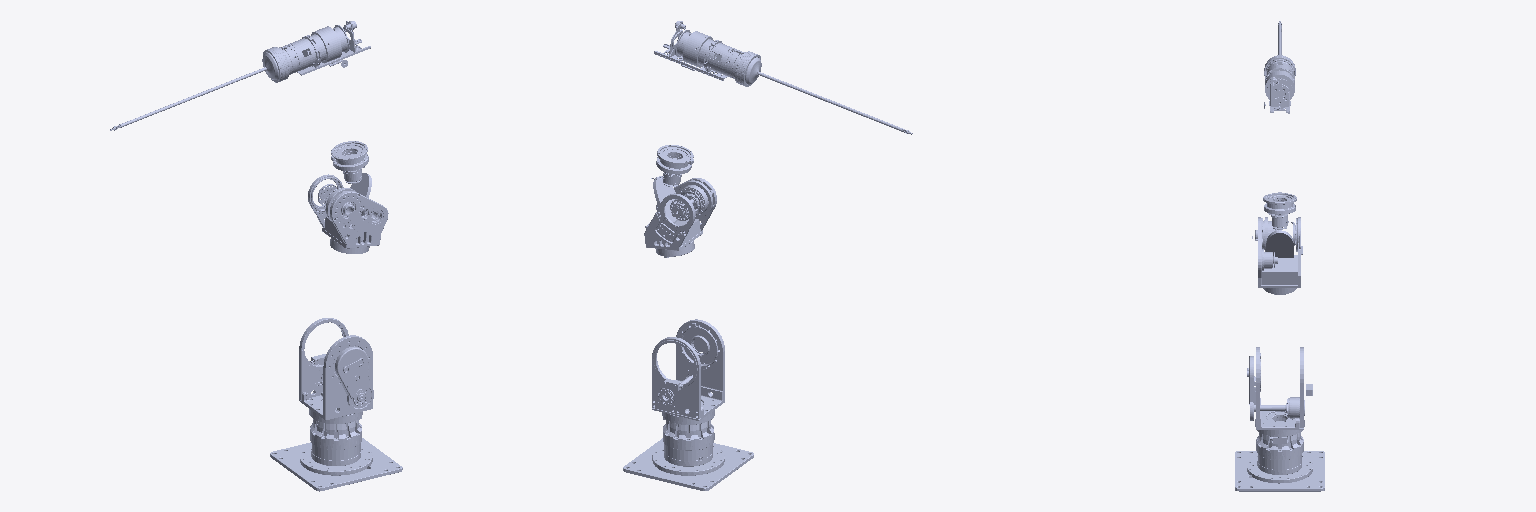
robot.urdf — 000PSM_10.SLDASM:
<?xml version="1.0" encoding="utf-8"?>
<!-- This URDF was automatically created by SolidWorks to URDF Exporter! Originally created by [author] ([email redacted]) 
     Commit Version: 1.6.0-4-g7f85cfe  Build Version: 1.6.7995.38578
     For more information, please see http://wiki.ros.org/sw_urdf_exporter -->
<robot
  name="000PSM_10.SLDASM">
  <link
    name="base_link">
    <inertial>
      <origin
        xyz="-0.000118184499271306 0.0400145358987086 -0.000195126740760821"
        rpy="0 0 0" />
      <mass
        value="0.941756221140476" />
      <inertia
        ixx="0.00261976418456864"
        ixy="-2.68177251028244E-06"
        ixz="7.50913281154645E-06"
        iyy="0.00411094097754537"
        iyz="-4.92959567770932E-06"
        izz="0.00262741889652876" />
    </inertial>
    <visual>
      <origin
        xyz="0 0 0"
        rpy="0 0 0" />
      <geometry>
        <mesh
          filename="package://000PSM_10.SLDASM/meshes/base_link.STL" />
      </geometry>
      <material
        name="">
        <color
          rgba="0.792156862745098 0.819607843137255 0.933333333333333 1" />
      </material>
    </visual>
    <collision>
      <origin
        xyz="0 0 0"
        rpy="0 0 0" />
      <geometry>
        <mesh
          filename="package://000PSM_10.SLDASM/meshes/base_link.STL" />
      </geometry>
    </collision>
  </link>
  <link
    name="Link1">
    <inertial>
      <origin
        xyz="0.00360442524391821 -0.0053005017370732 0.163964006214733"
        rpy="0 0 0" />
      <mass
        value="0.722552702234542" />
      <inertia
        ixx="0.00406038821436917"
        ixy="1.4220366901707E-06"
        ixz="-1.87723696682246E-05"
        iyy="0.00340644413763314"
        iyz="0.000302893967089514"
        izz="0.00243280961983921" />
    </inertial>
    <visual>
      <origin
        xyz="0 0 0"
        rpy="0 0 0" />
      <geometry>
        <mesh
          filename="package://000PSM_10.SLDASM/meshes/Link1.STL" />
      </geometry>
      <material
        name="">
        <color
          rgba="0.792156862745098 0.819607843137255 0.933333333333333 1" />
      </material>
    </visual>
    <collision>
      <origin
        xyz="0 0 0"
        rpy="0 0 0" />
      <geometry>
        <mesh
          filename="package://000PSM_10.SLDASM/meshes/Link1.STL" />
      </geometry>
    </collision>
  </link>
  <joint
    name="Joint1"
    type="revolute">
    <origin
      xyz="-0.00033121 0.00057367 0.0175"
      rpy="0 0 0" />
    <parent
      link="base_link" />
    <child
      link="Link1" />
    <axis
      xyz="0 0 -1" />
    <limit
      lower="0"
      upper="7"
      effort="100"
      velocity="100" />
  </joint>
  <link
    name="Link2">
    <inertial>
      <origin
        xyz="0.00362844830441954 0.0920795151899917 -0.0120135535967818"
        rpy="0 0 0" />
      <mass
        value="1.07316067537777" />
      <inertia
        ixx="0.00750311471264768"
        ixy="-0.000924886060997682"
        ixz="4.37371912655358E-06"
        iyy="0.00258481311337046"
        iyz="-0.000404072452028961"
        izz="0.00815014324652294" />
    </inertial>
    <visual>
      <origin
        xyz="0 0 0"
        rpy="0 0 0" />
      <geometry>
        <mesh
          filename="package://000PSM_10.SLDASM/meshes/Link2.STL" />
      </geometry>
      <material
        name="">
        <color
          rgba="0.792156862745098 0.819607843137255 0.933333333333333 1" />
      </material>
    </visual>
    <collision>
      <origin
        xyz="0 0 0"
        rpy="0 0 0" />
      <geometry>
        <mesh
          filename="package://000PSM_10.SLDASM/meshes/Link2.STL" />
      </geometry>
    </collision>
  </link>
  <joint
    name="Joint2"
    type="revolute">
    <origin
      xyz="0.00033121 -0.0085737 0.26235"
      rpy="1.5708 0 0" />
    <parent
      link="Link1" />
    <child
      link="Link2" />
    <axis
      xyz="0 0 -1" />
    <limit
      lower="0"
      upper="7"
      effort="100"
      velocity="100" />
  </joint>
  <link
    name="Link3">
    <inertial>
      <origin
        xyz="-0.00143469504532167 -0.00577195560730086 0.0323775671399398"
        rpy="0 0 0" />
      <mass
        value="0.563780663176934" />
      <inertia
        ixx="0.00122297635805355"
        ixy="1.84338110473485E-05"
        ixz="9.70736903439674E-05"
        iyy="0.00108483640961322"
        iyz="0.000123824676167829"
        izz="0.00122633362718451" />
    </inertial>
    <visual>
      <origin
        xyz="0 0 0"
        rpy="0 0 0" />
      <geometry>
        <mesh
          filename="package://000PSM_10.SLDASM/meshes/Link3.STL" />
      </geometry>
      <material
        name="">
        <color
          rgba="0.792156862745098 0.819607843137255 0.933333333333333 1" />
      </material>
    </visual>
    <collision>
      <origin
        xyz="0 0 0"
        rpy="0 0 0" />
      <geometry>
        <mesh
          filename="package://000PSM_10.SLDASM/meshes/Link3.STL" />
      </geometry>
    </collision>
  </link>
  <joint
    name="Joint3"
    type="revolute">
    <origin
      xyz="0.037187 0.27318 -0.0080117"
      rpy="-1.5708 0 -0.13545" />
    <parent
      link="Link2" />
    <child
      link="Link3" />
    <axis
      xyz="0 0 -1" />
    <limit
      lower="0"
      upper="7"
      effort="100"
      velocity="100" />
  </joint>
  <link
    name="Link4">
    <inertial>
      <origin
        xyz="0.0269584207103462 -0.0317330759959175 -0.0128057611300966"
        rpy="0 0 0" />
      <mass
        value="0.223475559054317" />
      <inertia
        ixx="0.000608067248250306"
        ixy="9.25797242531127E-05"
        ixz="-4.94978405429482E-05"
        iyy="0.000309602827759062"
        iyz="5.8044216542039E-05"
        izz="0.000675453841633169" />
    </inertial>
    <visual>
      <origin
        xyz="0 0 0"
        rpy="0 0 0" />
      <geometry>
        <mesh
          filename="package://000PSM_10.SLDASM/meshes/Link4.STL" />
      </geometry>
      <material
        name="">
        <color
          rgba="0.792156862745098 0.819607843137255 0.933333333333333 1" />
      </material>
    </visual>
    <collision>
      <origin
        xyz="0 0 0"
        rpy="0 0 0" />
      <geometry>
        <mesh
          filename="package://000PSM_10.SLDASM/meshes/Link4.STL" />
      </geometry>
    </collision>
  </link>
  <joint
    name="Joint4"
    type="revolute">
    <origin
      xyz="-0.04992 0.0045383 0.090954"
      rpy="-1.5708 -0.13545 0" />
    <parent
      link="Link3" />
    <child
      link="Link4" />
    <axis
      xyz="0 0 1" />
    <limit
      lower="0"
      upper="7"
      effort="100"
      velocity="100" />
  </joint>
  <link
    name="Link5">
    <inertial>
      <origin
        xyz="0.00113172701873995 0.000409265494625497 0.0938765784720427"
        rpy="0 0 0" />
      <mass
        value="0.316510533918867" />
      <inertia
        ixx="0.00140318971521666"
        ixy="-1.36700688490222E-06"
        ixz="-6.7688652194467E-06"
        iyy="0.00133686790839989"
        iyz="-8.33131471460017E-06"
        izz="0.000394719070939827" />
    </inertial>
    <visual>
      <origin
        xyz="0 0 0"
        rpy="0 0 0" />
      <geometry>
        <mesh
          filename="package://000PSM_10.SLDASM/meshes/Link5.STL" />
      </geometry>
      <material
        name="">
        <color
          rgba="0.792156862745098 0.819607843137255 0.933333333333333 1" />
      </material>
    </visual>
    <collision>
      <origin
        xyz="0 0 0"
        rpy="0 0 0" />
      <geometry>
        <mesh
          filename="package://000PSM_10.SLDASM/meshes/Link5.STL" />
      </geometry>
    </collision>
  </link>
  <joint
    name="Joint5"
    type="revolute">
    <origin
      xyz="0.032577 -0.12419 -0.00455"
      rpy="1.5708 0 -0.14328" />
    <parent
      link="Link4" />
    <child
      link="Link5" />
    <axis
      xyz="0 0 -1" />
    <limit
      lower="0"
      upper="7"
      effort="100"
      velocity="100" />
  </joint>
  <link
    name="Link6">
    <inertial>
      <origin
        xyz="-0.0168011287484246 0.0411259974508388 0.00489973346686907"
        rpy="0 0 0" />
      <mass
        value="0.00182212548335296" />
      <inertia
        ixx="1.11653603981449E-06"
        ixy="-2.17155502318022E-08"
        ixz="-1.30467530178847E-07"
        iyy="1.29727026012864E-06"
        iyz="-5.35736073747889E-09"
        izz="1.99574099327029E-07" />
    </inertial>
    <visual>
      <origin
        xyz="0 0 0"
        rpy="0 0 0" />
      <geometry>
        <mesh
          filename="package://000PSM_10.SLDASM/meshes/Link6.STL" />
      </geometry>
      <material
        name="">
        <color
          rgba="0.792156862745098 0.819607843137255 0.933333333333333 1" />
      </material>
    </visual>
    <collision>
      <origin
        xyz="0 0 0"
        rpy="0 0 0" />
      <geometry>
        <mesh
          filename="package://000PSM_10.SLDASM/meshes/Link6.STL" />
      </geometry>
    </collision>
  </link>
  <joint
    name="Joint6"
    type="revolute">
    <origin
      xyz="0 -0.0017276 0.18615"
      rpy="1.5708 0.14328 0" />
    <parent
      link="Link5" />
    <child
      link="Link6" />
    <axis
      xyz="0 0 -1" />
    <limit
      lower="0"
      upper="7"
      effort="100"
      velocity="100" />
  </joint>
  <link
    name="Link7">
    <inertial>
      <origin
        xyz="0.0813851767355547 0.00233807851673773 -0.00121711162907964"
        rpy="0 0 0" />
      <mass
        value="0.0357999215157163" />
      <inertia
        ixx="3.57136796962792E-05"
        ixy="2.05286625513675E-05"
        ixz="-2.57363666132368E-06"
        iyy="0.000100118855102773"
        iyz="3.44882514625705E-06"
        izz="0.000115534980744186" />
    </inertial>
    <visual>
      <origin
        xyz="0 0 0"
        rpy="0 0 0" />
      <geometry>
        <mesh
          filename="package://000PSM_10.SLDASM/meshes/Link7.STL" />
      </geometry>
      <material
        name="">
        <color
          rgba="0.792156862745098 0.819607843137255 0.933333333333333 1" />
      </material>
    </visual>
    <collision>
      <origin
        xyz="0 0 0"
        rpy="0 0 0" />
      <geometry>
        <mesh
          filename="package://000PSM_10.SLDASM/meshes/Link7.STL" />
      </geometry>
    </collision>
  </link>
  <joint
    name="Joint7"
    type="prismatic">
    <origin
      xyz="0.064095 0.059259 -0.0017276"
      rpy="3.1416 0 3.1416" />
    <parent
      link="Link6" />
    <child
      link="Link7" />
    <axis
      xyz="0.98975 -0.14279 0" />
    <limit
      lower="-0.3"
      upper="0.3"
      effort="100"
      velocity="100" />
  </joint>
  <link
    name="Link8">
    <inertial>
      <origin
        xyz="-2.65049811968287E-05 -0.000260373055970931 -0.123080939603004"
        rpy="0 0 0" />
      <mass
        value="0.170473794710067" />
      <inertia
        ixx="0.000666978645665943"
        ixy="8.25393169614472E-08"
        ixz="4.63502909234203E-08"
        iyy="0.000668621466197351"
        iyz="2.89092128002436E-07"
        izz="0.000140958469712731" />
    </inertial>
    <visual>
      <origin
        xyz="0 0 0"
        rpy="0 0 0" />
      <geometry>
        <mesh
          filename="package://000PSM_10.SLDASM/meshes/Link8.STL" />
      </geometry>
      <material
        name="">
        <color
          rgba="0.792156862745098 0.819607843137255 0.933333333333333 1" />
      </material>
    </visual>
    <collision>
      <origin
        xyz="0 0 0"
        rpy="0 0 0" />
      <geometry>
        <mesh
          filename="package://000PSM_10.SLDASM/meshes/Link8.STL" />
      </geometry>
    </collision>
  </link>
  <joint
    name="Joint8"
    type="revolute">
    <origin
      xyz="0.077458 0.022161 3.331E-05"
      rpy="-0.14328 -1.5708 0" />
    <parent
      link="Link7" />
    <child
      link="Link8" />
    <axis
      xyz="0 0 -1" />
    <limit
      lower="0"
      upper="7"
      effort="100"
      velocity="100" />
  </joint>
  <link
    name="Link9">
    <inertial>
      <origin
        xyz="-0.00601892604133758 -0.000868341416787932 0.000525002790353701"
        rpy="0 0 0" />
      <mass
        value="0.000234463483054233" />
      <inertia
        ixx="1.96290017091562E-09"
        ixy="-3.46875741227035E-10"
        ixz="1.20765667406293E-11"
        iyy="4.31747441148311E-09"
        iyz="-8.36280819276402E-11"
        izz="5.65238030543883E-09" />
    </inertial>
    <visual>
      <origin
        xyz="0 0 0"
        rpy="0 0 0" />
      <geometry>
        <mesh
          filename="package://000PSM_10.SLDASM/meshes/Link9.STL" />
      </geometry>
      <material
        name="">
        <color
          rgba="0.792156862745098 0.819607843137255 0.933333333333333 1" />
      </material>
    </visual>
    <collision>
      <origin
        xyz="0 0 0"
        rpy="0 0 0" />
      <geometry>
        <mesh
          filename="package://000PSM_10.SLDASM/meshes/Link9.STL" />
      </geometry>
    </collision>
  </link>
  <joint
    name="Joint9"
    type="revolute">
    <origin
      xyz="0.00049169 0 -0.55283"
      rpy="1.5708 -1.4275 -1.5706" />
    <parent
      link="Link8" />
    <child
      link="Link9" />
    <axis
      xyz="-0.98975 -0.14279 0" />
    <limit
      lower="0"
      upper="7"
      effort="100"
      velocity="100" />
  </joint>
  <link
    name="Link10">
    <inertial>
      <origin
        xyz="0.000401150516376446 -0.00222328311762898 0.000977302946585379"
        rpy="0 0 0" />
      <mass
        value="0.000140305571312917" />
      <inertia
        ixx="2.37124709061677E-09"
        ixy="2.61362480701721E-10"
        ixz="3.82631402239789E-11"
        iyy="4.96309383394173E-10"
        iyz="-2.50536025416016E-10"
        izz="2.63198022308029E-09" />
    </inertial>
    <visual>
      <origin
        xyz="0 0 0"
        rpy="0 0 0" />
      <geometry>
        <mesh
          filename="package://000PSM_10.SLDASM/meshes/Link10.STL" />
      </geometry>
      <material
        name="">
        <color
          rgba="0.792156862745098 0.819607843137255 0.933333333333333 1" />
      </material>
    </visual>
    <collision>
      <origin
        xyz="0 0 0"
        rpy="0 0 0" />
      <geometry>
        <mesh
          filename="package://000PSM_10.SLDASM/meshes/Link10.STL" />
      </geometry>
    </collision>
  </link>
  <joint
    name="Joint10"
    type="revolute">
    <origin
      xyz="3.8077E-05 0 -0.56419"
      rpy="1.5708 -0.0010827 -3.1414" />
    <parent
      link="Link8" />
    <child
      link="Link10" />
    <axis
      xyz="0 0 1" />
    <limit
      lower="0"
      upper="7"
      effort="100"
      velocity="100" />
  </joint>
  <link
    name="Link11">
    <inertial>
      <origin
        xyz="-0.000189433838393255 -0.00223198939554903 -0.000977301165059119"
        rpy="0 0 0" />
      <mass
        value="0.000140305305508955" />
      <inertia
        ixx="2.38501273142356E-09"
        ixy="-2.05727094789367E-10"
        ixz="3.0869803831457E-11"
        iyy="4.82535488852878E-10"
        iyz="2.51553535211084E-10"
        izz="2.63197217574138E-09" />
    </inertial>
    <visual>
      <origin
        xyz="0 0 0"
        rpy="0 0 0" />
      <geometry>
        <mesh
          filename="package://000PSM_10.SLDASM/meshes/Link11.STL" />
      </geometry>
      <material
        name="">
        <color
          rgba="0.792156862745098 0.819607843137255 0.933333333333333 1" />
      </material>
    </visual>
    <collision>
      <origin
        xyz="0 0 0"
        rpy="0 0 0" />
      <geometry>
        <mesh
          filename="package://000PSM_10.SLDASM/meshes/Link11.STL" />
      </geometry>
    </collision>
  </link>
  <joint
    name="Joint11"
    type="revolute">
    <origin
      xyz="3.8077E-05 0 -0.56419"
      rpy="1.5708 -0.0010827 -3.1414" />
    <parent
      link="Link8" />
    <child
      link="Link11" />
    <axis
      xyz="0 0 1" />
    <limit
      lower="0"
      upper="7"
      effort="100"
      velocity="100" />
  </joint>
</robot>

--- What the picture shows (computed from the rendered views, not written in the file) ---
Views: 3 orthographic renders of the robot side by side, from view 1: azimuth 30°, elevation 25°; view 2: azimuth 150°, elevation 25°; view 3: azimuth 270°, elevation 25°.
Robot: 000PSM_10.SLDASM — 12 links, 11 joints (10 revolute, 1 prismatic); root link base_link; default pose: every joint at zero.
Visible links, largest first — view 1: Link1, base_link, Link3, Link8, Link4, Link7; view 2: Link1, base_link, Link8, Link4, Link3, Link7; view 3: Link1, base_link, Link3, Link4, Link8, Link7.
Link boxes in pixels (x1,y1,x2,y2): Link1: [299, 318, 373, 449]; base_link: [270, 438, 402, 491]; Link3: [308, 174, 388, 253]; Link8: [119, 25, 349, 127]; Link4: [318, 141, 371, 221]; Link7: [297, 21, 370, 75]; Link1: [652, 319, 724, 450]; base_link: [623, 438, 753, 490]; Link8: [675, 30, 903, 131]; Link4: [651, 145, 713, 221]; Link3: [644, 178, 716, 257]; Link7: [654, 21, 727, 80]; Link1: [1247, 347, 1312, 459]; base_link: [1235, 439, 1324, 491]; Link3: [1252, 217, 1302, 294]; Link4: [1255, 192, 1297, 257]; Link8: [1264, 23, 1295, 99]; Link7: [1265, 68, 1294, 113].
Size in the robot's own frame: 0.6882 by 0.22 by 1.08 metres.
Meshes: 12 distinct files referenced, 10 mesh visuals loaded (10 binary STL); not drawn: 2 (reference not matched to a file when rendering).